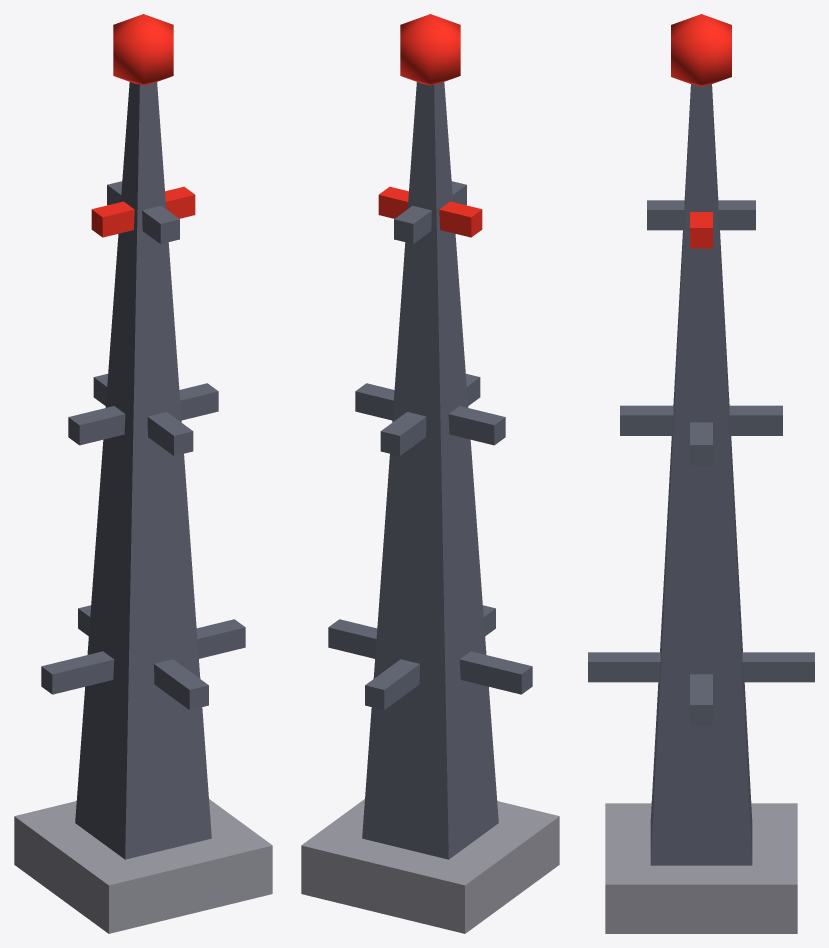
File: ciudad_antena.obj
3 renders of one model, left to right at view 1: azimuth 30°, elevation 25°; view 2: azimuth 150°, elevation 25°; view 3: azimuth 270°, elevation 25°, orthographic.
Visible parts, largest first — view 1: ciudad_antena; view 2: ciudad_antena; view 3: ciudad_antena.
Boxes of the visible parts, x1,y1,x2,y2 form: ciudad_antena: (14,14,272,933); ciudad_antena: (301,14,559,933); ciudad_antena: (588,14,814,933).
Bounding box in the file's own units: 0.5 × 2.14 × 0.5.
